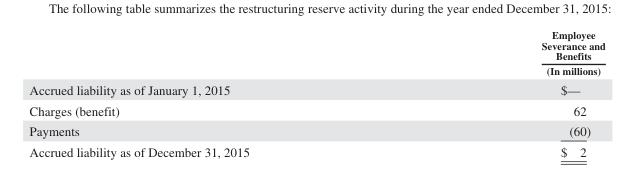table: (28, 28, 604, 158)
table column: (28, 28, 394, 158), (394, 28, 604, 158)
table column header: (28, 28, 604, 79)
table row: (28, 28, 604, 79), (28, 99, 604, 120), (28, 120, 604, 141), (28, 79, 604, 99), (28, 141, 604, 158)
